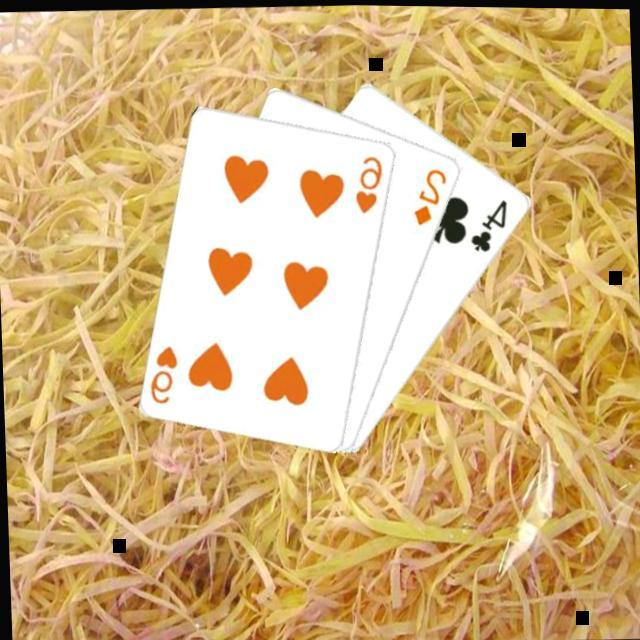2D: (410, 162, 452, 224)
4C: (467, 192, 512, 252)
6H: (352, 148, 388, 213), (146, 339, 182, 404)
